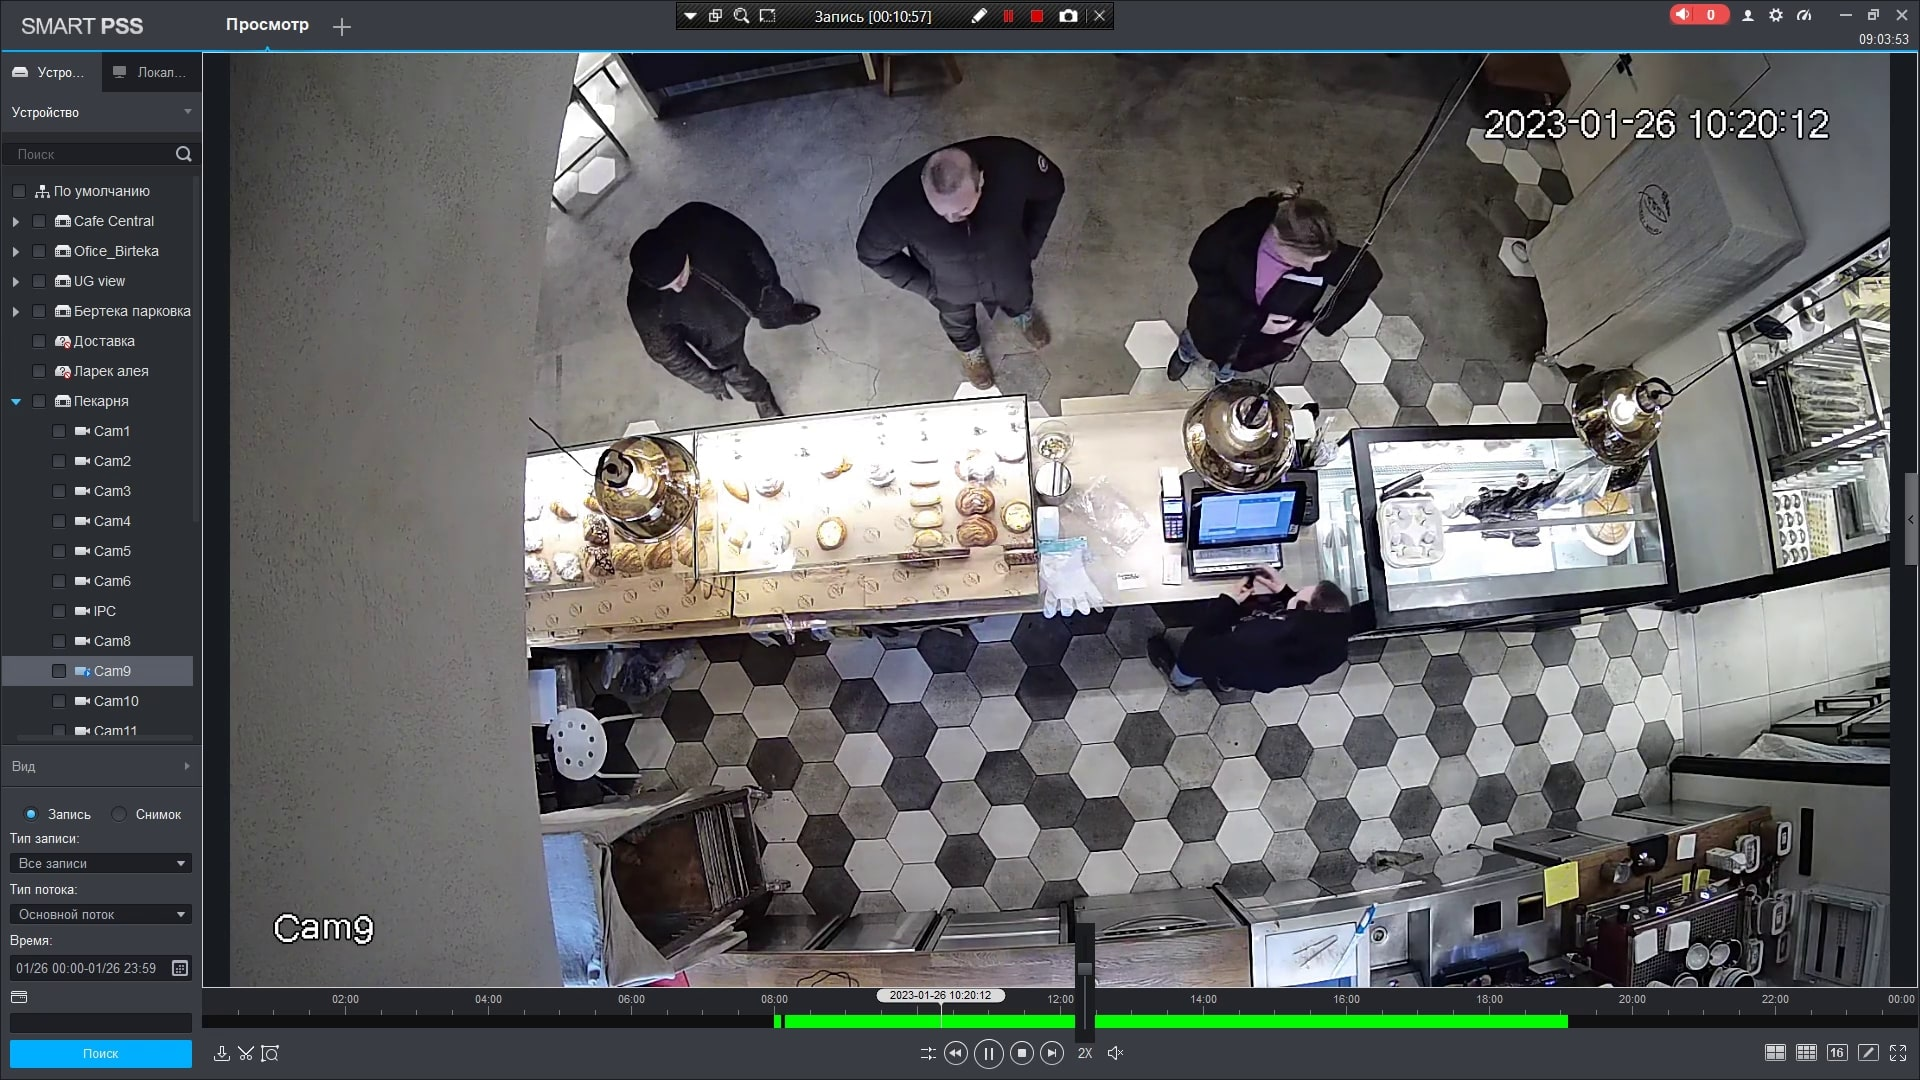barcounter: (542, 419, 1700, 650)
person: (847, 131, 1090, 397), (1156, 155, 1376, 397), (612, 202, 825, 404), (1161, 572, 1351, 714)
